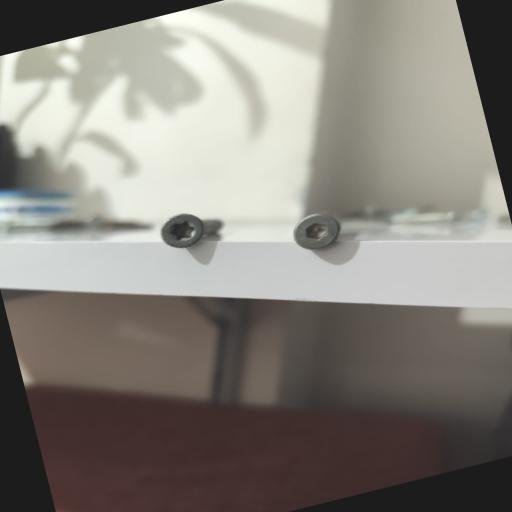Hex-Allen: (286, 204, 348, 256)
Torx: (156, 206, 213, 259)
